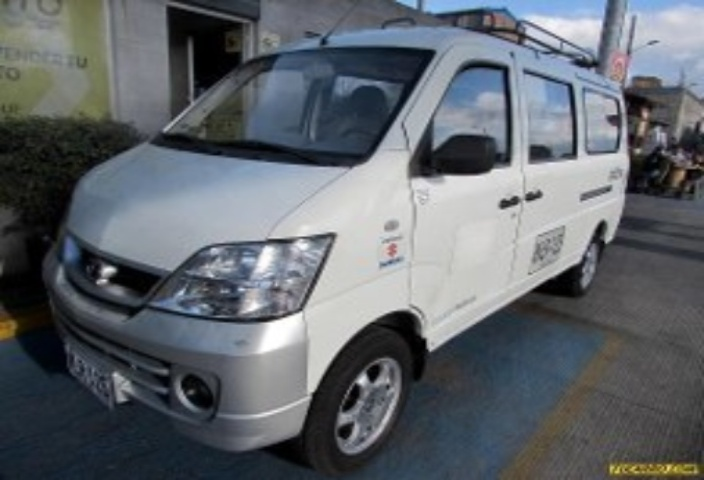van: (24, 14, 647, 446)
